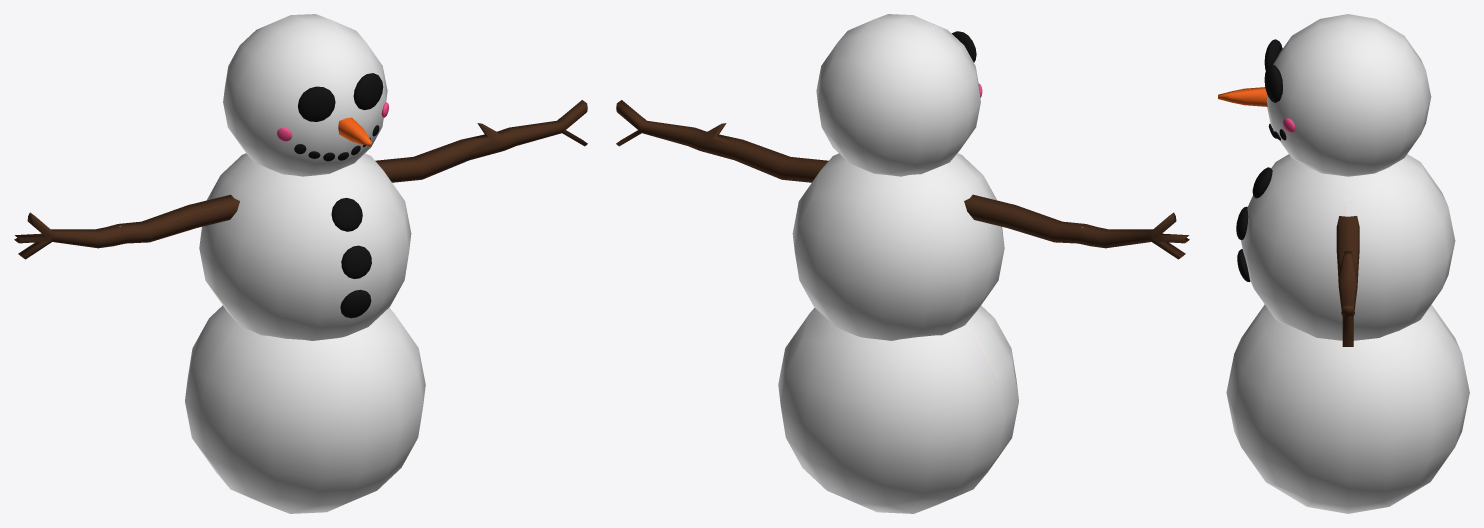
File: bonhomme2.glb
3 views of the same model, side by side, from view 1: azimuth 30°, elevation 25°; view 2: azimuth 150°, elevation 25°; view 3: azimuth 270°, elevation 25° (orthographic).
Visible parts, largest first — view 1: defaultMaterial (×2); view 2: defaultMaterial; view 3: defaultMaterial (×2).
Boxes of the visible parts, box(x1,y1,x2,y2) form: defaultMaterial (×2): box(14, 14, 587, 513); defaultMaterial: box(616, 14, 1189, 513); defaultMaterial (×2): box(1218, 14, 1469, 513).
Size of the model in its own units: 7308 by 5922 by 2808.
2 materials, 2 textured.
